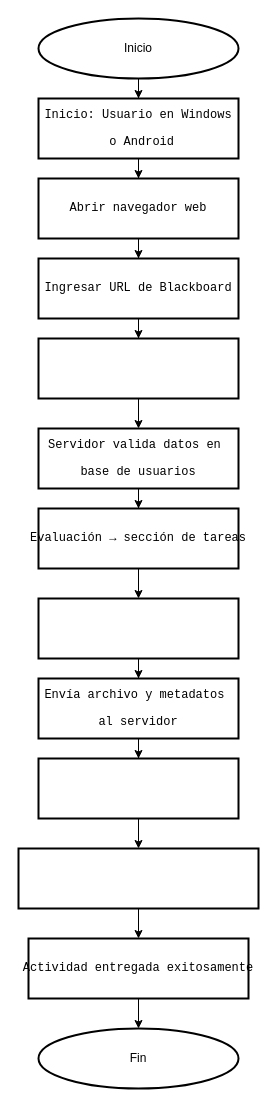
This 276x1106 diagram has some shape labels left out. The shapes that lost their labels are listed below. From the top down, each one's centre as x and y in pixels, then its label:
pixel 138 368: Servidor Blackboard solicita los datos de estudiante
pixel 138 628: Selecciona "Ver instrucciones"
pixel 138 788: Guarda archivo en base de datos
pixel 138 878: Genera confirmación de entrega y se manda confirmación de correo
